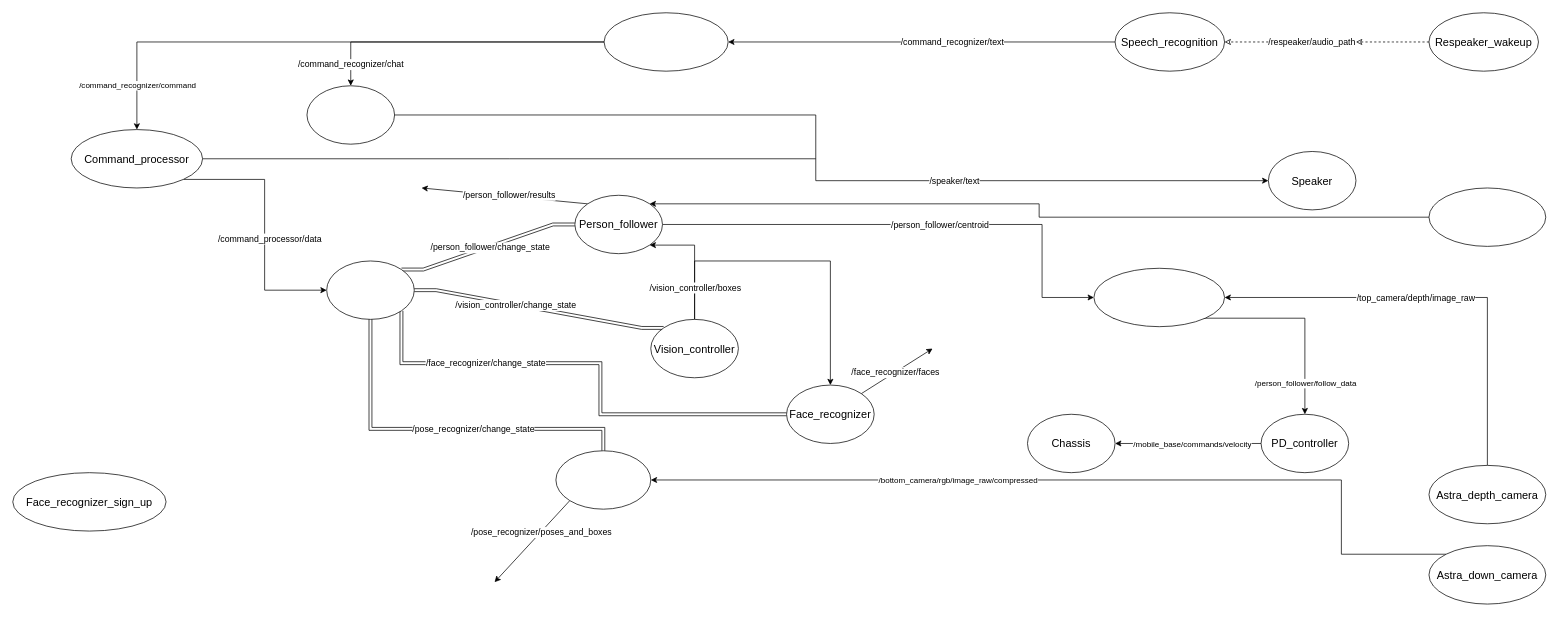
Image size: 1559x617. Some labels were removed from this diagram. The shapes that lost their labels are listed below. From the top down, each one's centre as x and y in pixels, then its label:
At point (665, 41): "Command_recognizer".
At point (350, 114): "Chatbot_LSTM".
At point (1487, 216): "Astra_top_camera".
At point (370, 289): "Action_controller".
At point (1159, 297): "Person_follower_robot".
At point (603, 479): "Pose_recognizer".
